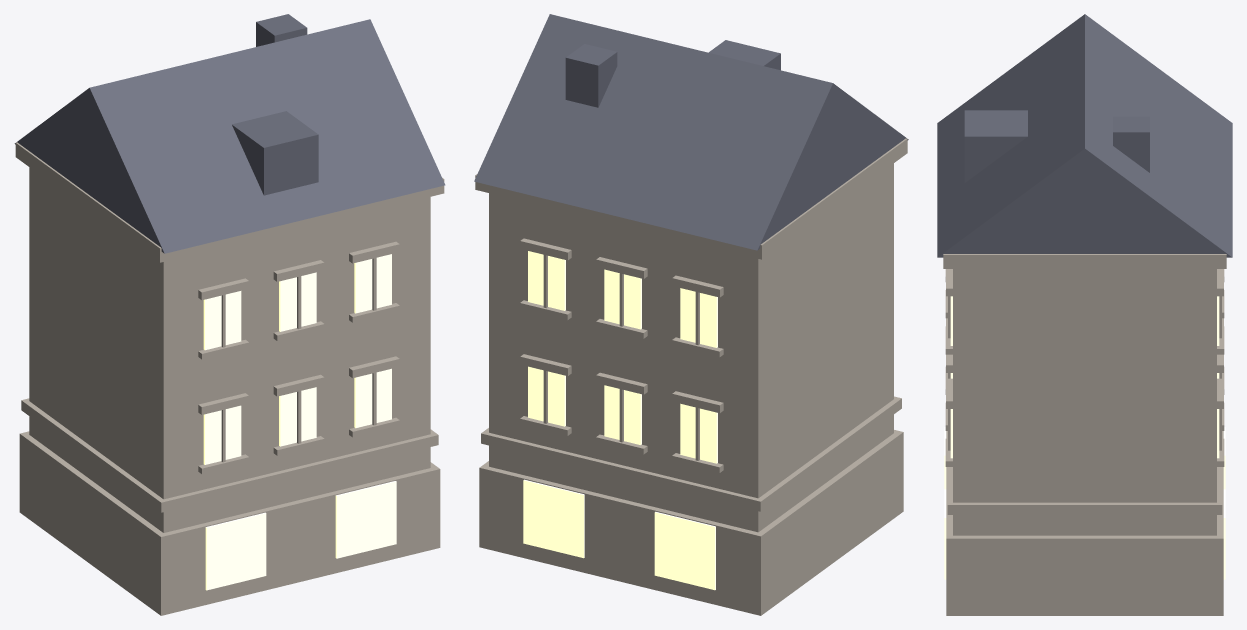
File: oldtown_props.glb
3 views of the same model, side by side, from view 1: azimuth 30°, elevation 25°; view 2: azimuth 150°, elevation 25°; view 3: azimuth 270°, elevation 25° (orthographic). The views are drawn at different scales.
Visible parts, largest first — view 1: house_walls, house_roof, house_windows; view 2: house_walls, house_roof, house_windows; view 3: house_walls, house_roof, house_windows.
Boxes of the visible parts, <box> form: house_walls: <box>15,142,444,615</box>; house_roof: <box>14,14,445,253</box>; house_windows: <box>203,254,396,590</box>; house_walls: <box>475,138,907,615</box>; house_roof: <box>474,14,908,250</box>; house_windows: <box>523,251,717,590</box>; house_walls: <box>943,254,1226,615</box>; house_roof: <box>937,14,1232,257</box>; house_windows: <box>944,296,1225,579</box>.
Bounding box in the file's own units: 8.3 × 13.3 × 7.6.
